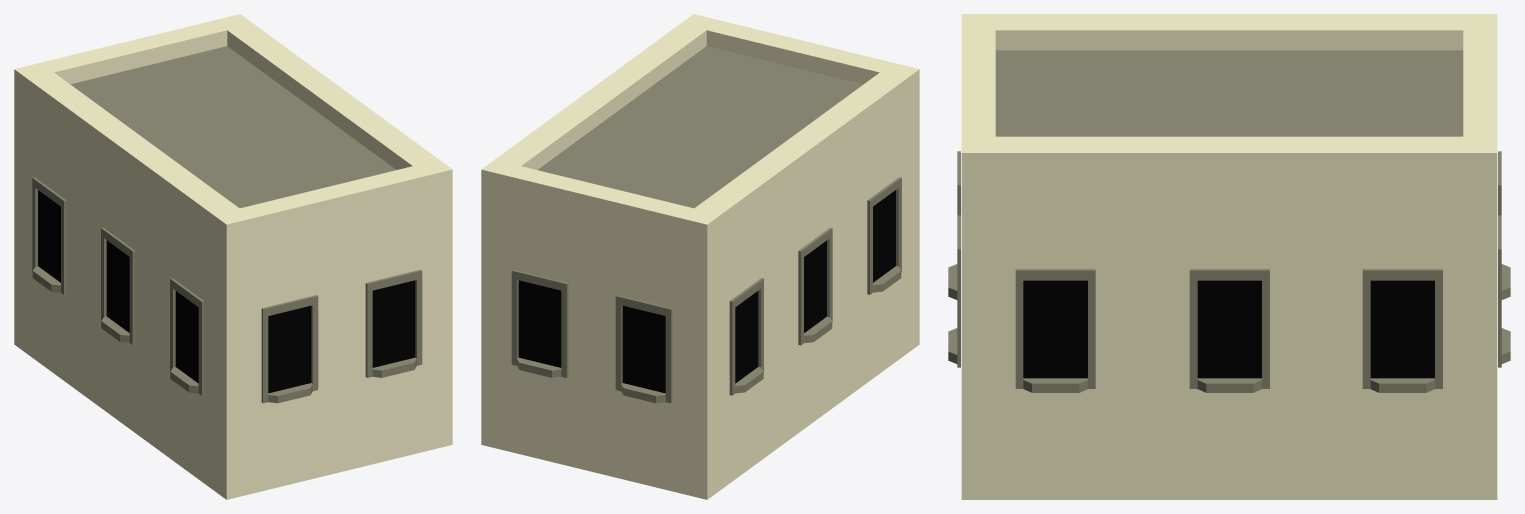
File: buildings2.fbx
The picture shows the model from 3 angles, left to right: view 1: azimuth 30°, elevation 25°; view 2: azimuth 150°, elevation 25°; view 3: azimuth 270°, elevation 25°; orthographic projection. The views are drawn at different scales.
Parts seen in each view (by area): view 1: Building; view 2: Building; view 3: Building.
Part boxes in pixels (x1,y1,x2,y2): Building: [14, 14, 452, 499]; Building: [481, 14, 919, 499]; Building: [948, 14, 1510, 499].
Size of the model in its own units: 133 by 143 by 210.
1 material, 1 textured.
